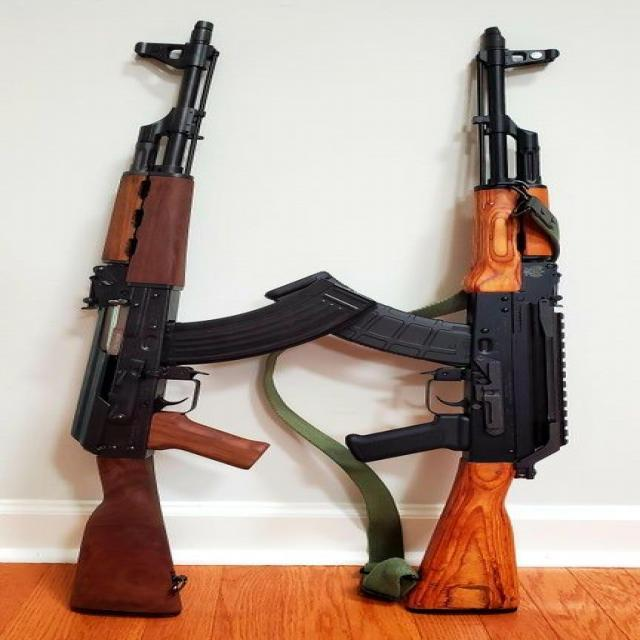ak: (263, 25, 586, 618), (59, 16, 338, 620)
